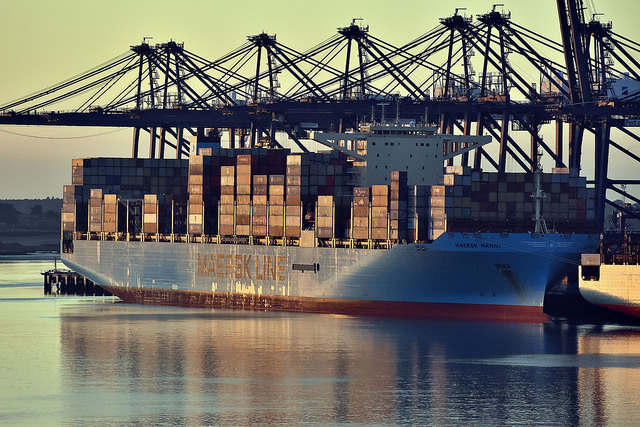container_ship: (60, 106, 587, 322)
